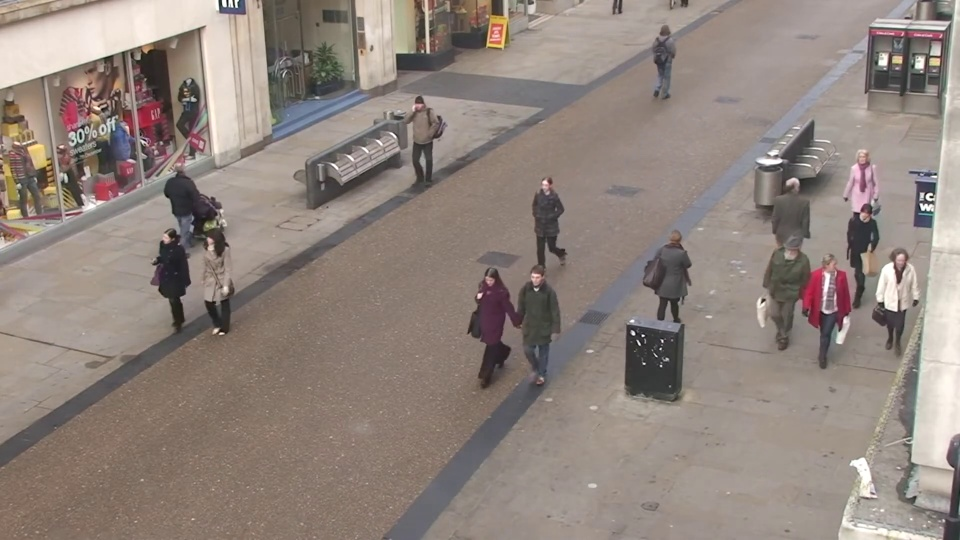pedestrian: (866, 246, 920, 378), (800, 250, 850, 381), (144, 228, 195, 350), (758, 244, 805, 374), (186, 228, 235, 351), (464, 265, 508, 400), (510, 267, 553, 403), (836, 200, 884, 319), (657, 220, 699, 345), (835, 147, 878, 253), (770, 169, 811, 279), (169, 153, 211, 256), (523, 174, 560, 286), (397, 97, 429, 188), (655, 22, 679, 92)
